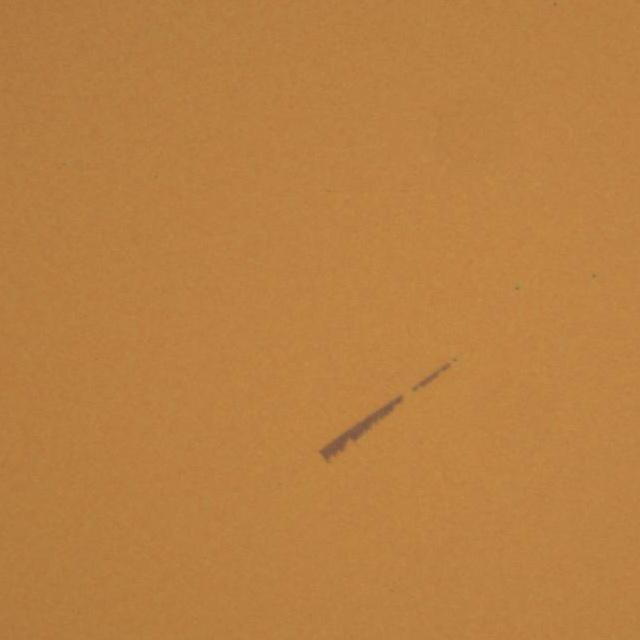monolayer-eWW4: (317, 392, 408, 466)
